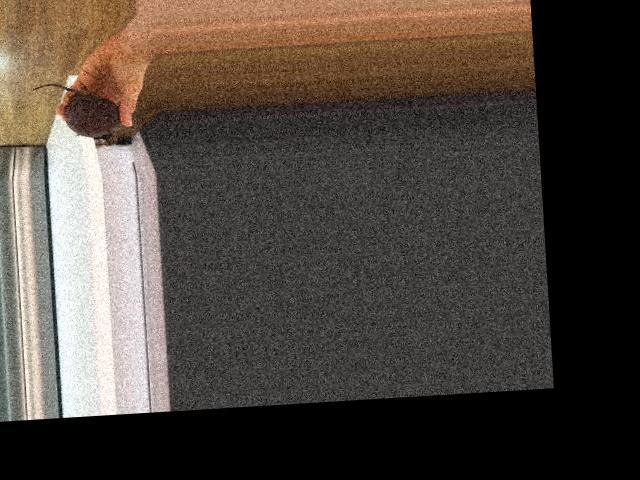beet: (31, 79, 120, 143)
